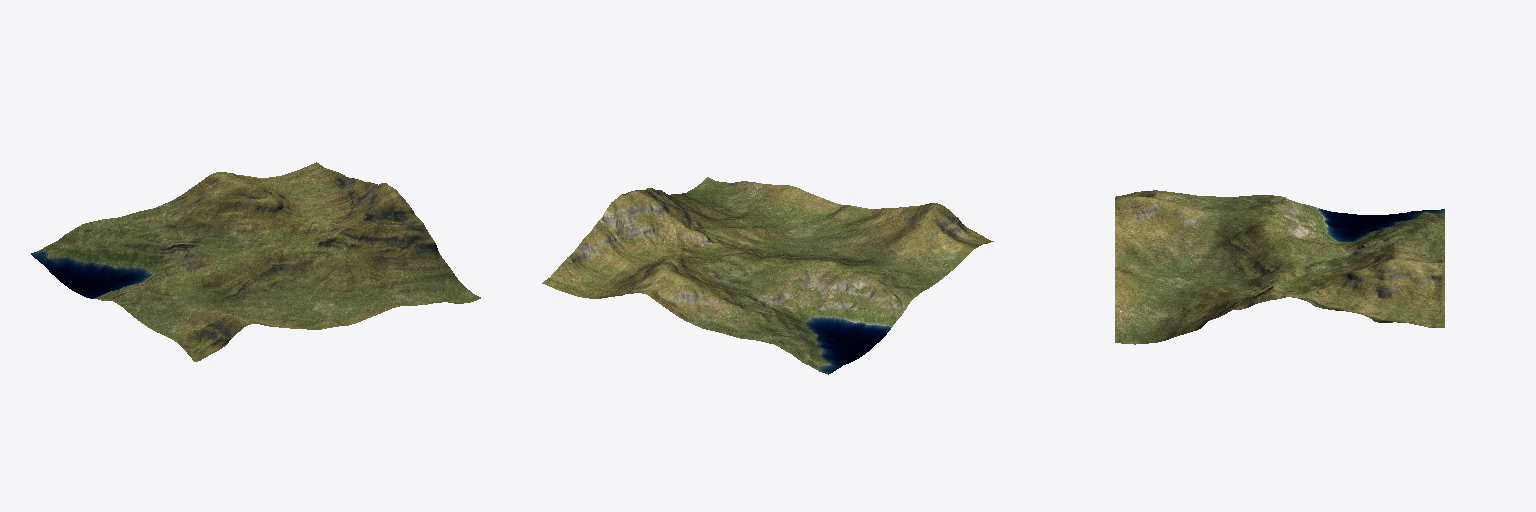
The picture shows the model from 3 angles: view 1: azimuth 30°, elevation 25°; view 2: azimuth 150°, elevation 25°; view 3: azimuth 270°, elevation 25°; orthographic projection.
Visible parts, largest first — view 1: terrain_o; view 2: terrain_o; view 3: terrain_o.
Part boxes in pixels (x1,y1,x2,y2): terrain_o: (31, 162, 480, 361); terrain_o: (542, 177, 993, 374); terrain_o: (1115, 190, 1444, 344).
Bounding box in the file's own units: 5120 × 995 × 5110.
1 materials, 1 textured.